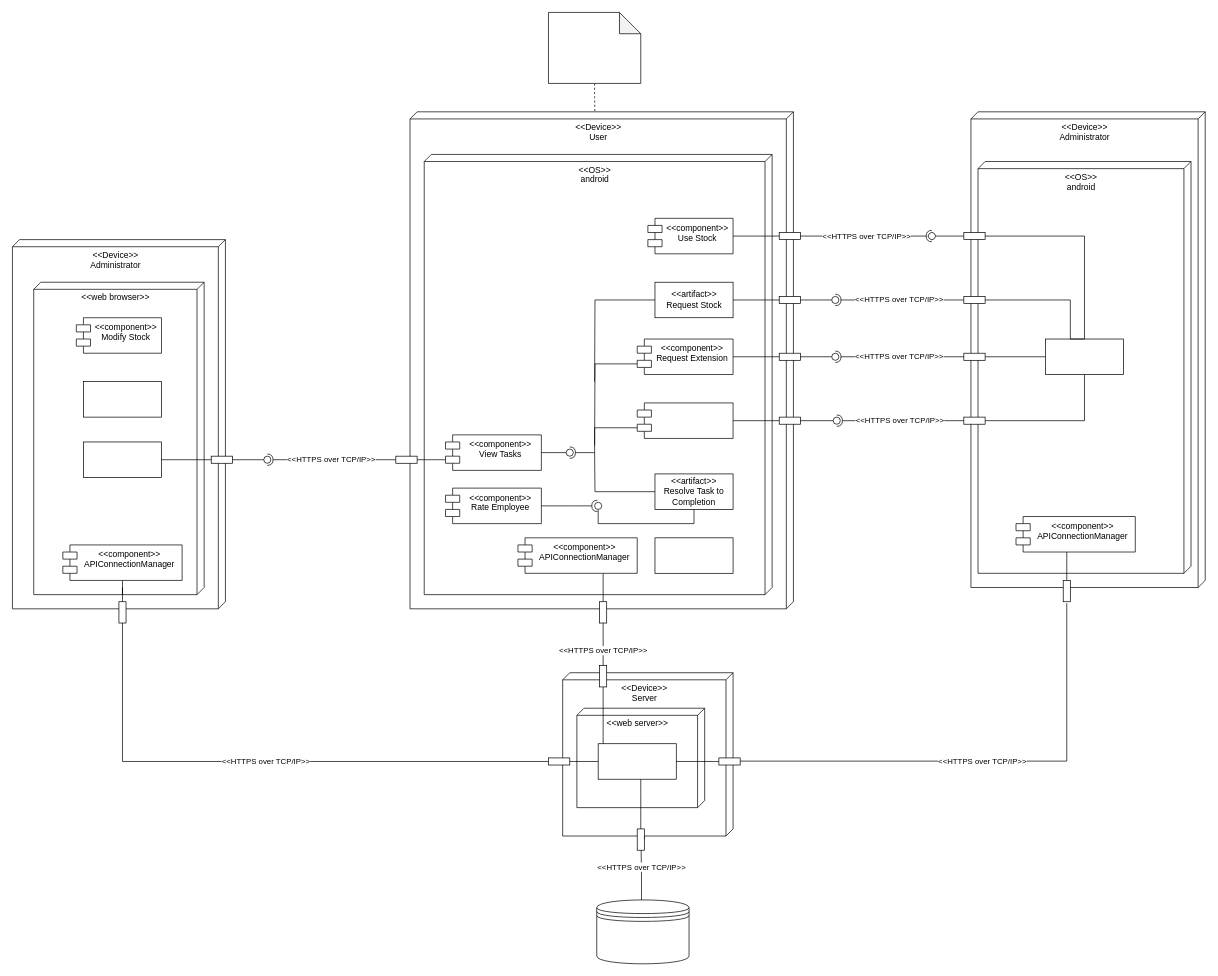
This 1218x976 diagram has some shape labels left out. The centre of each missing label's shape, as x and y in pixels:
<<artifact>> Controller Management: the point at 636,761
<<artifact>> Modify Profile: the point at 693,555
<<artifact>> Register/Delete User: the point at 122,399
<<artifact>> Resolve Request: the point at 1084,356
<<artifact>> Task Creation Process: the point at 122,459
<<component>> Request Removal From Task: the point at 685,420
A user can be an employee, contractor, or supervisor: the point at 594,47
Database: the point at 642,931
